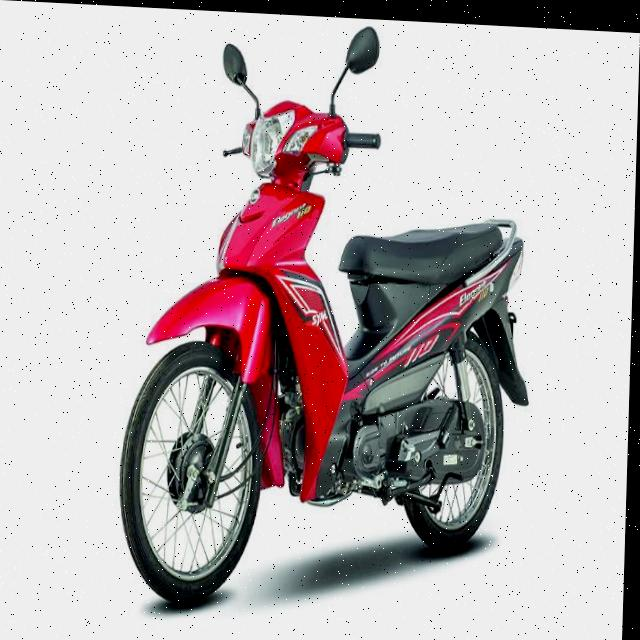motorcycle: (103, 6, 543, 628)
